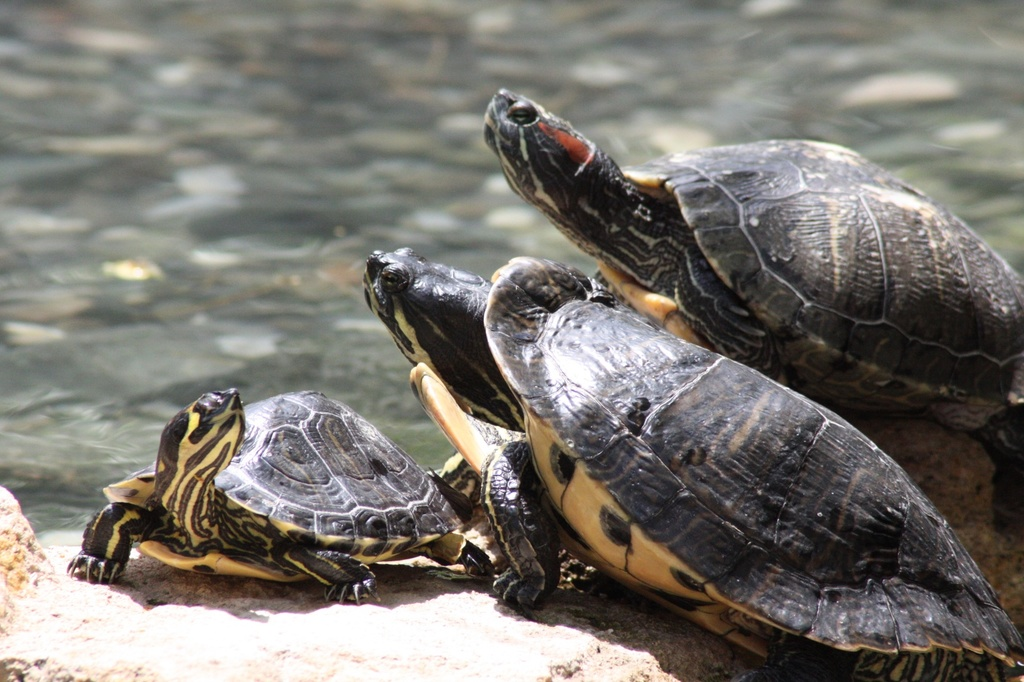Sea turtles: (361, 246, 1024, 680), (479, 88, 1024, 523), (66, 388, 494, 605)
